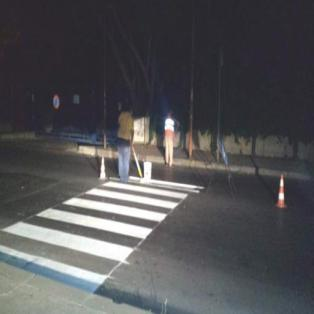Paso de Cebra: (1, 205, 158, 264)
